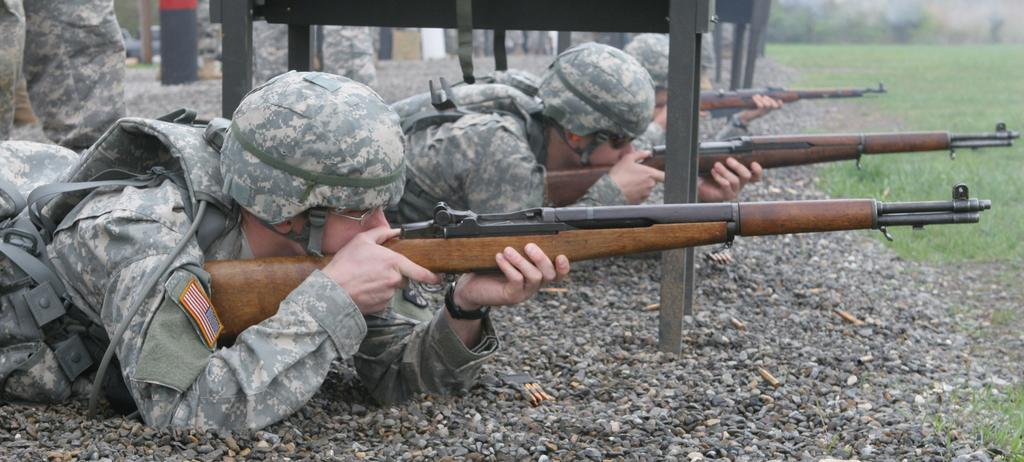Rifle: (200, 188, 989, 341), (532, 117, 1023, 211), (655, 74, 892, 123)
